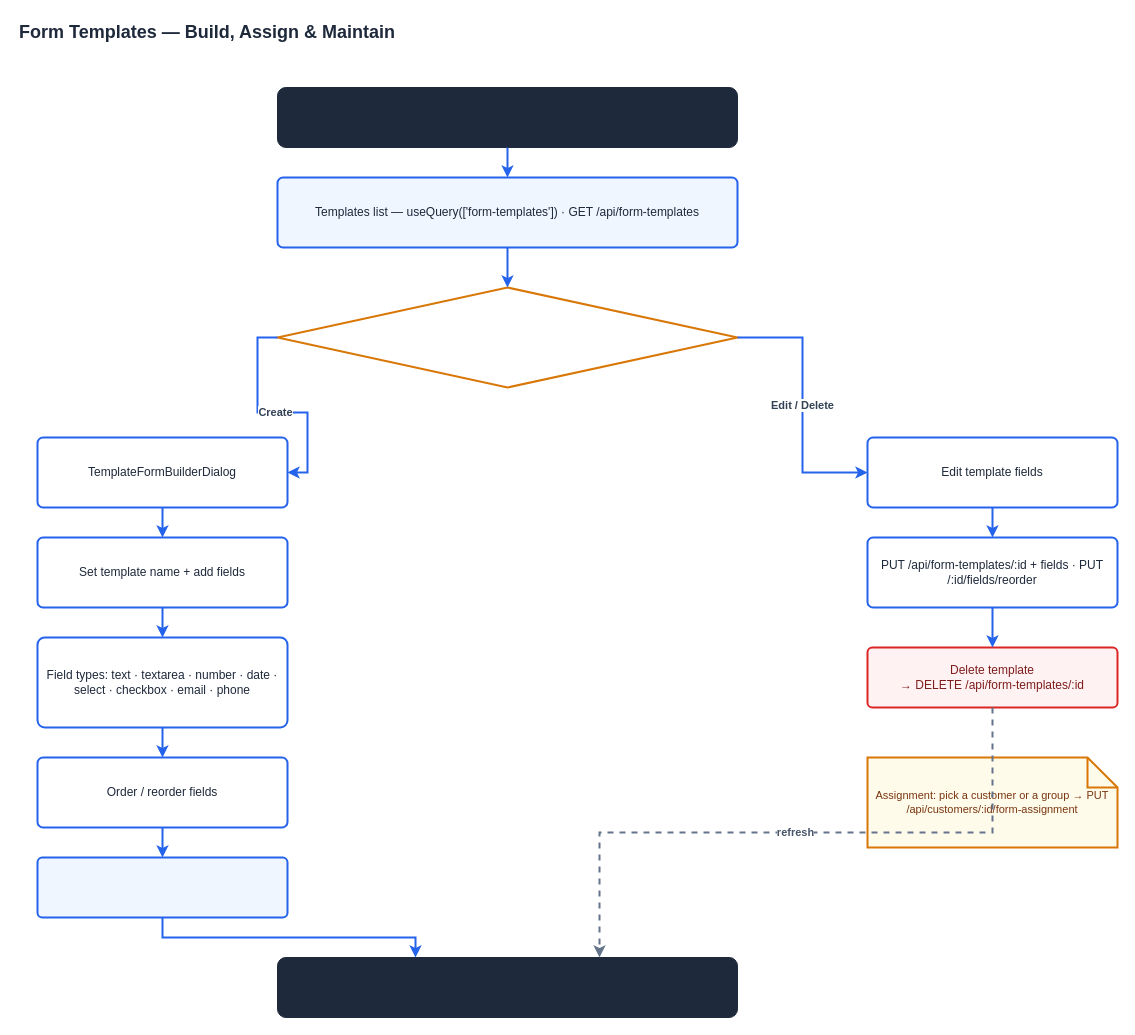
This 1135x1035 diagram has some shape labels left out. The shapes that lost their labels are listed below. From the top down, each one's centre as x and y in pixels, then its label:
the point at 507,117: User opens Form Templates page
the point at 507,337: User action?
the point at 162,887: POST /api/form-templates + fields
the point at 507,987: Templates cache invalidated → list refreshes
